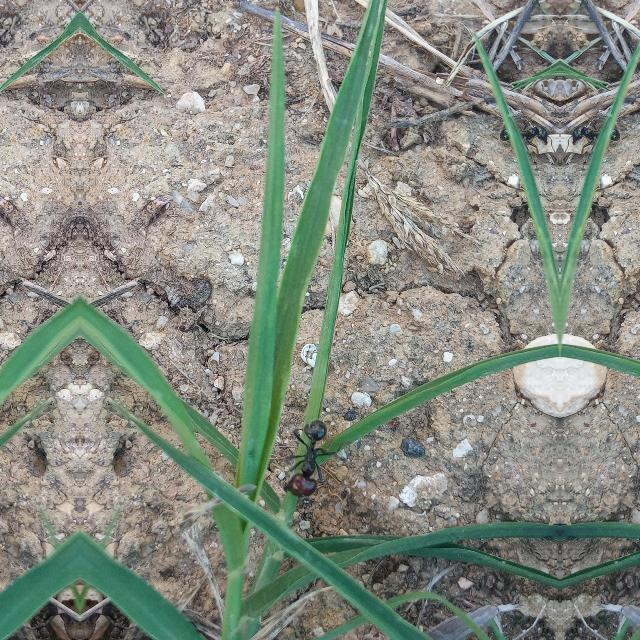Messor: (284, 413, 332, 505)
